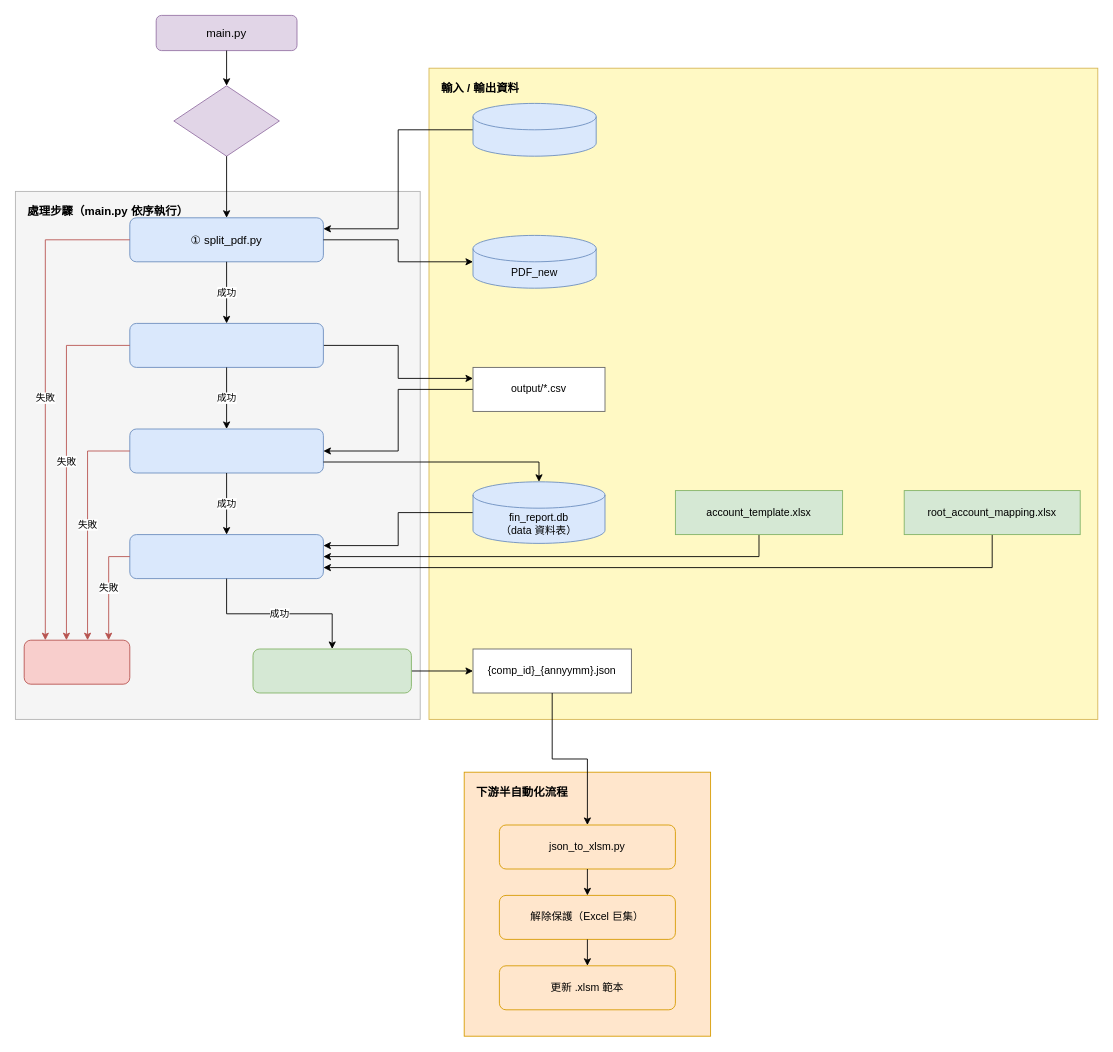
Image size: 1113x1052. Some labels were removed from this diagram. Each missing label, with the centre of its shape:
"PDF_old" goes at point 534,129.
"② gemini.py" goes at point 226,345.
"③ csv_to_sql.py" goes at point 226,450.
"④ mapper.py" goes at point 226,556.
"中止" goes at point 76,661.
"依序執行四步" goes at point 226,120.
"完成：產出 JSON" goes at point 331,670.
